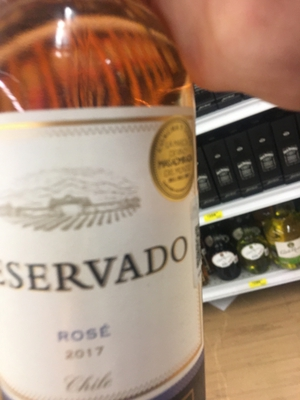reservado rose: (2, 27, 198, 400)
